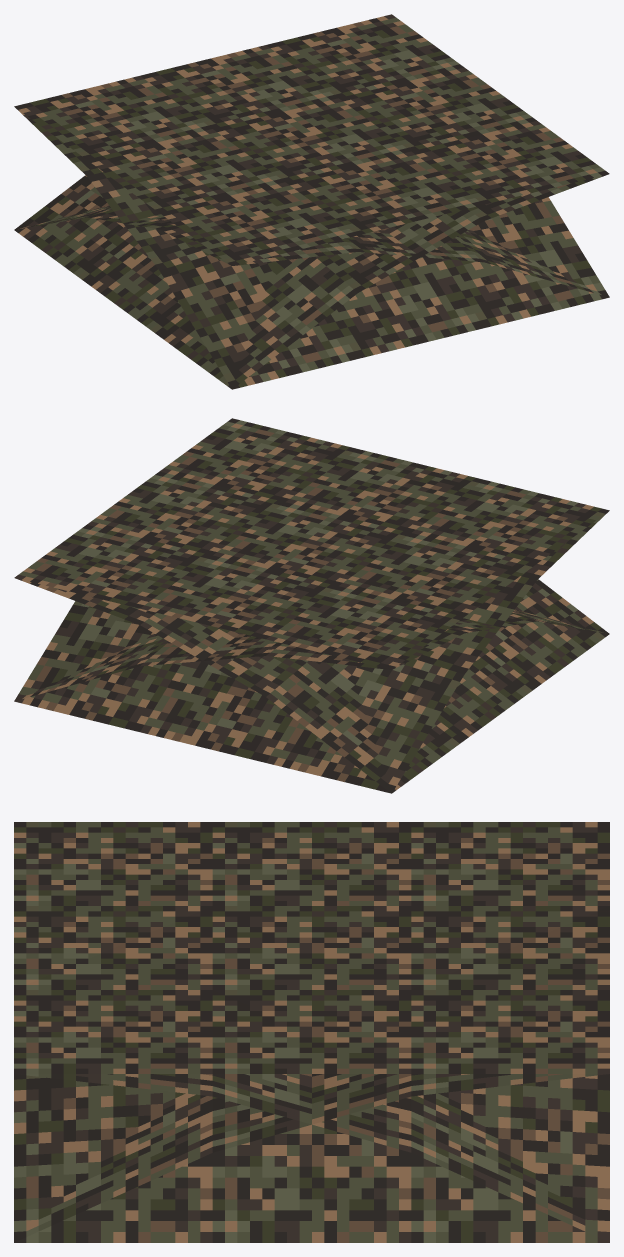
Rendered from DVShores.glb.
3 views of the same model, one above another, from view 1: azimuth 30°, elevation 25°; view 2: azimuth 150°, elevation 25°; view 3: azimuth 270°, elevation 25° (orthographic). The views are drawn at different scales.
Visible parts, largest first — view 1: shoreNE, dirt, ShoreNW, shoreSE, islandSw, shoreSW, islandSE, shoreN, shoreE, shoreW, shoreS, islandNE; view 2: shoreSE, dirt, shoreSW, shoreNE, ShoreNW, islandNE, islandNW, shoreE, islandSw, shoreS, shoreW; view 3: shoreSW, dirt, ShoreNW, shoreW, shoreSE, shoreNE, shoreN, shoreS, islandSw.
Boxes of the visible parts, <box> form: shoreNE: <box>15,14,464,389</box>; dirt: <box>140,67,483,265</box>; ShoreNW: <box>14,76,609,297</box>; shoreSE: <box>14,67,609,229</box>; islandSw: <box>14,217,560,336</box>; shoreSW: <box>160,182,482,265</box>; islandSE: <box>232,281,483,389</box>; shoreN: <box>16,108,609,327</box>; shoreE: <box>159,174,608,388</box>; shoreW: <box>233,229,482,265</box>; shoreS: <box>154,221,229,264</box>; islandNE: <box>88,214,169,229</box>; shoreSE: <box>87,418,464,793</box>; dirt: <box>15,426,536,669</box>; shoreSW: <box>14,449,609,701</box>; shoreNE: <box>14,525,609,666</box>; ShoreNW: <box>266,565,531,669</box>; islandNE: <box>142,580,536,793</box>; islandNW: <box>14,661,264,762</box>; shoreE: <box>15,578,609,696</box>; islandSw: <box>392,672,536,792</box>; shoreS: <box>236,511,608,792</box>; shoreW: <box>141,633,331,666</box>; shoreSW: <box>14,822,609,1242</box>; dirt: <box>14,822,609,1073</box>; ShoreNW: <box>14,822,609,1242</box>; shoreW: <box>14,1124,609,1242</box>; shoreSE: <box>14,990,410,1073</box>; shoreNE: <box>411,907,609,1073</box>; shoreN: <box>214,1074,608,1152</box>; shoreS: <box>15,1074,329,1127</box>; islandSw: <box>213,1082,410,1152</box>.
Size of the model in its own units: 4.8 by 1.5 by 4.8.
Materials: 1 (1 with a texture image).
